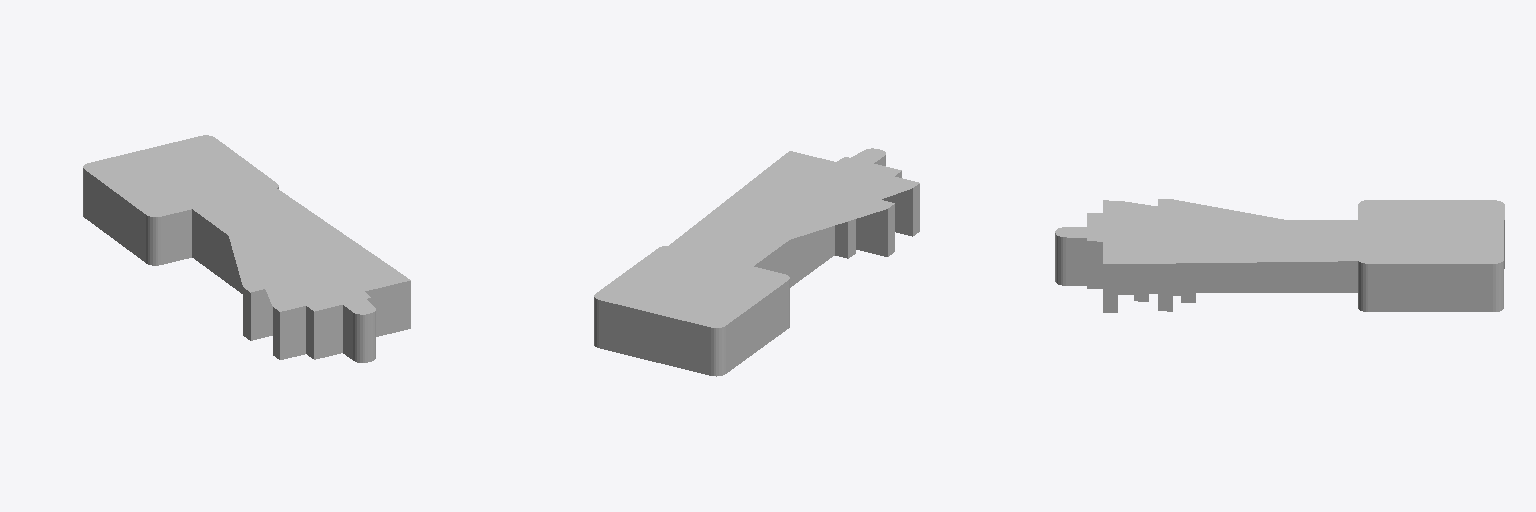
The model's file is Key.obj.
The picture shows the model from 3 angles: view 1: azimuth 30°, elevation 25°; view 2: azimuth 150°, elevation 25°; view 3: azimuth 270°, elevation 25°; orthographic projection.
Parts seen in each view (by area): view 1: headusOBJexport; view 2: headusOBJexport; view 3: headusOBJexport.
Boxes of the visible parts, box(x1,y1,x2,y2) form: headusOBJexport: box(83, 135, 410, 362); headusOBJexport: box(594, 148, 919, 376); headusOBJexport: box(1055, 199, 1504, 312).
Bounding box in the file's own units: 2.87 × 1 × 8.41.